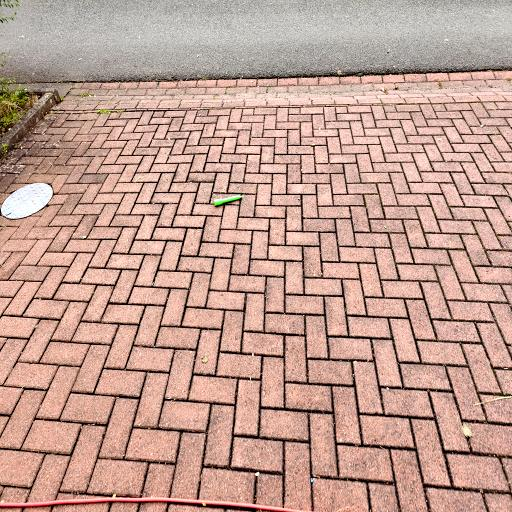Probe-Detection: (214, 195, 242, 206)
